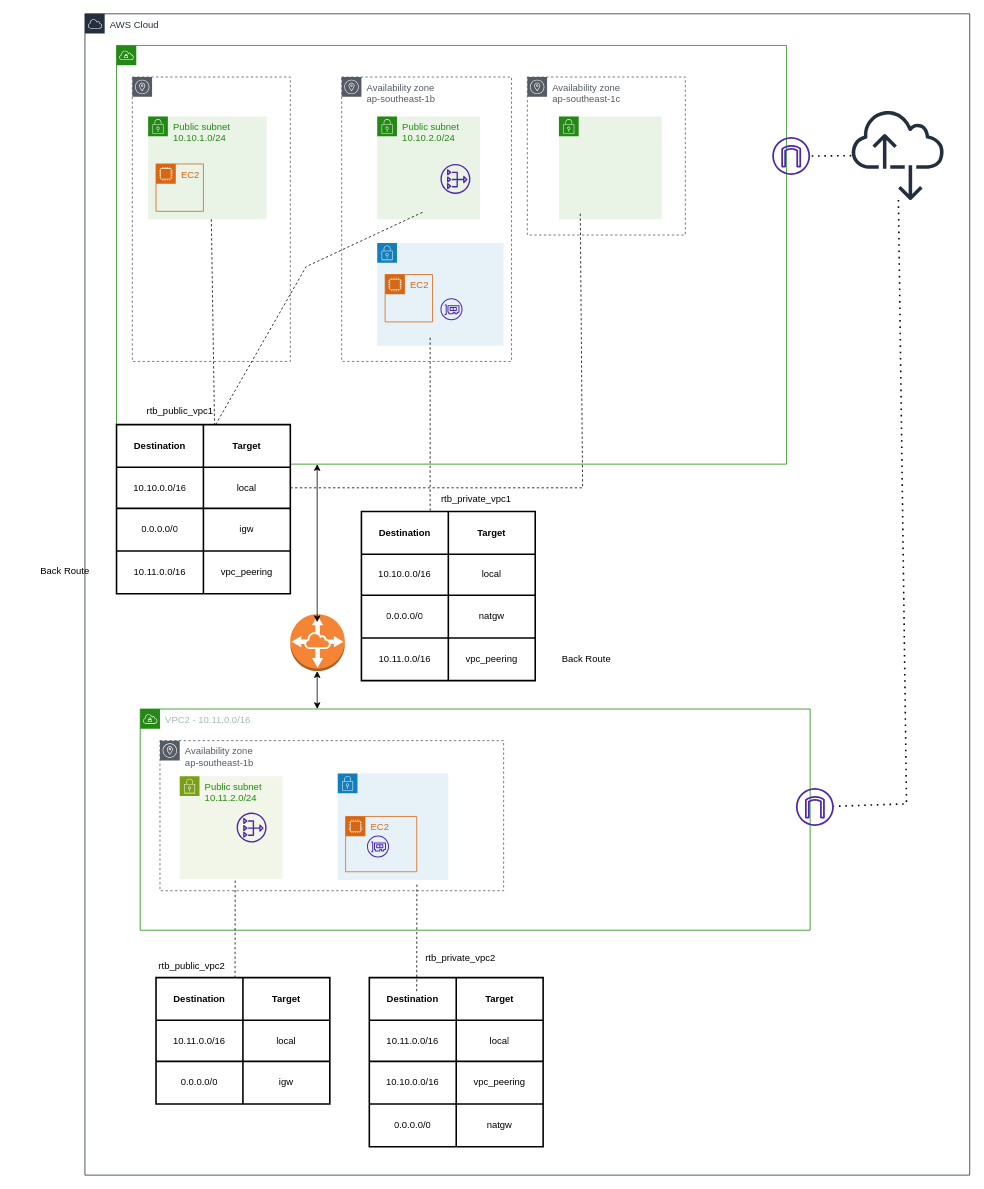
Image size: 984x1189. Some labels were removed from this diagram. Each missing label, with the box of its shape:
Availability zone ap-southeast-1a: (132, 76, 290, 361)
Private subnet 10.10.4.0/24: (376, 242, 504, 346)
Private subnet 10.11.1.0/24: (337, 773, 448, 880)
Public subnet 10.10.3.0/24: (558, 116, 662, 219)
VPC1 - 10.10.0.0/16: (116, 45, 786, 464)
